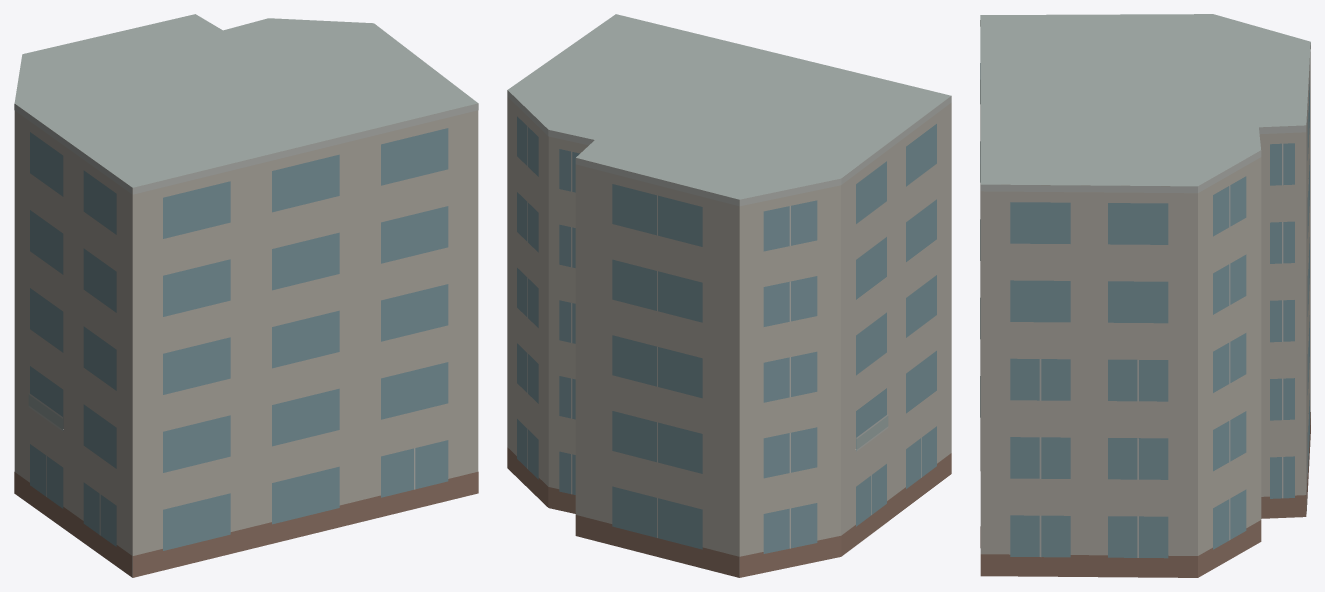
Rendered from survey-upis-32766847.glb.
3 renders of one model, left to right at view 1: azimuth 30°, elevation 25°; view 2: azimuth 150°, elevation 25°; view 3: azimuth 270°, elevation 25°, orthographic. The views are drawn at different scales.
Parts seen in each view (by area): view 1: survey-upis-32766847.tmp; view 2: survey-upis-32766847.tmp; view 3: survey-upis-32766847.tmp.
Boxes of the visible parts, left/top/right/bottom form: survey-upis-32766847.tmp: left=14, top=14, right=478, bottom=577; survey-upis-32766847.tmp: left=507, top=14, right=951, bottom=577; survey-upis-32766847.tmp: left=980, top=14, right=1310, bottom=577.
Bounding box in the file's own units: 13.06 × 13.8 × 10.57.
